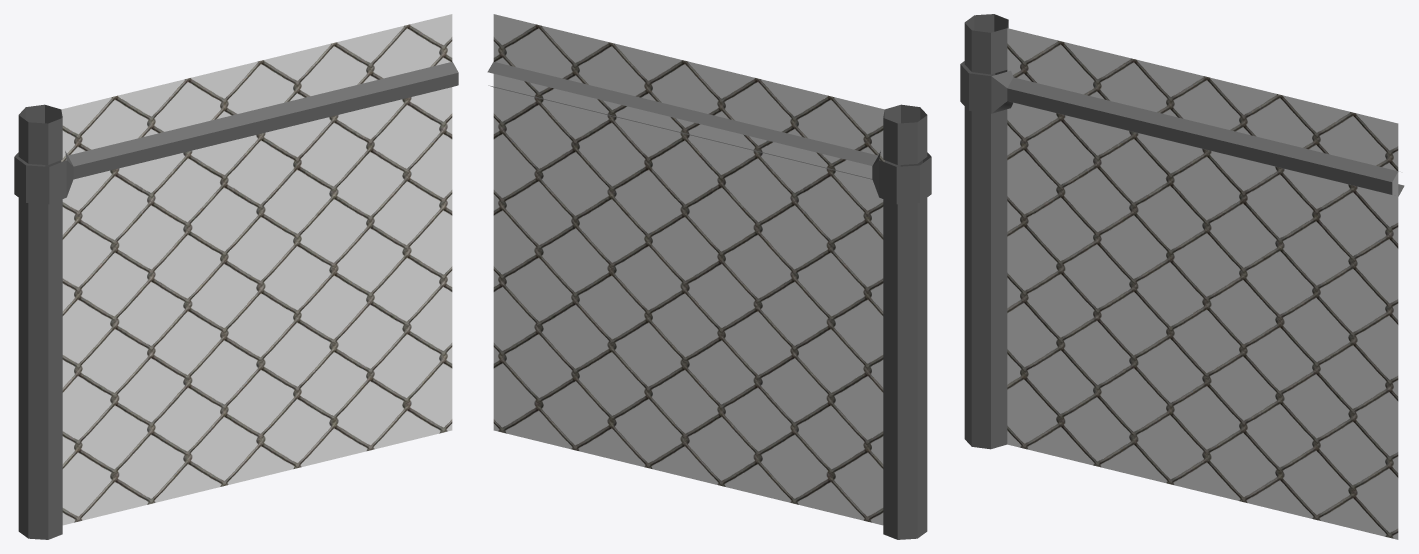
Rendered from ChainFence.fbx.
3 views of the same model, side by side, from view 1: azimuth 30°, elevation 25°; view 2: azimuth 150°, elevation 25°; view 3: azimuth 330°, elevation 25° (orthographic).
Visible parts, largest first — view 1: ChainFence; view 2: ChainFence; view 3: ChainFence.
Part boxes in pixels (x1=…): ChainFence: x1=14, y1=14, x2=458, y2=539; ChainFence: x1=487, y1=14, x2=931, y2=539; ChainFence: x1=960, y1=14, x2=1404, y2=539.
Size of the model in its own units: 217 by 200 by 23.1.
